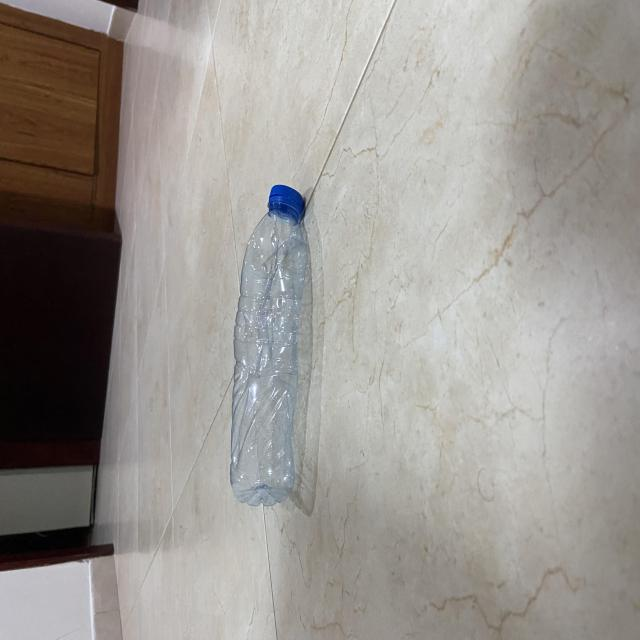plastic: (229, 184, 308, 507)
